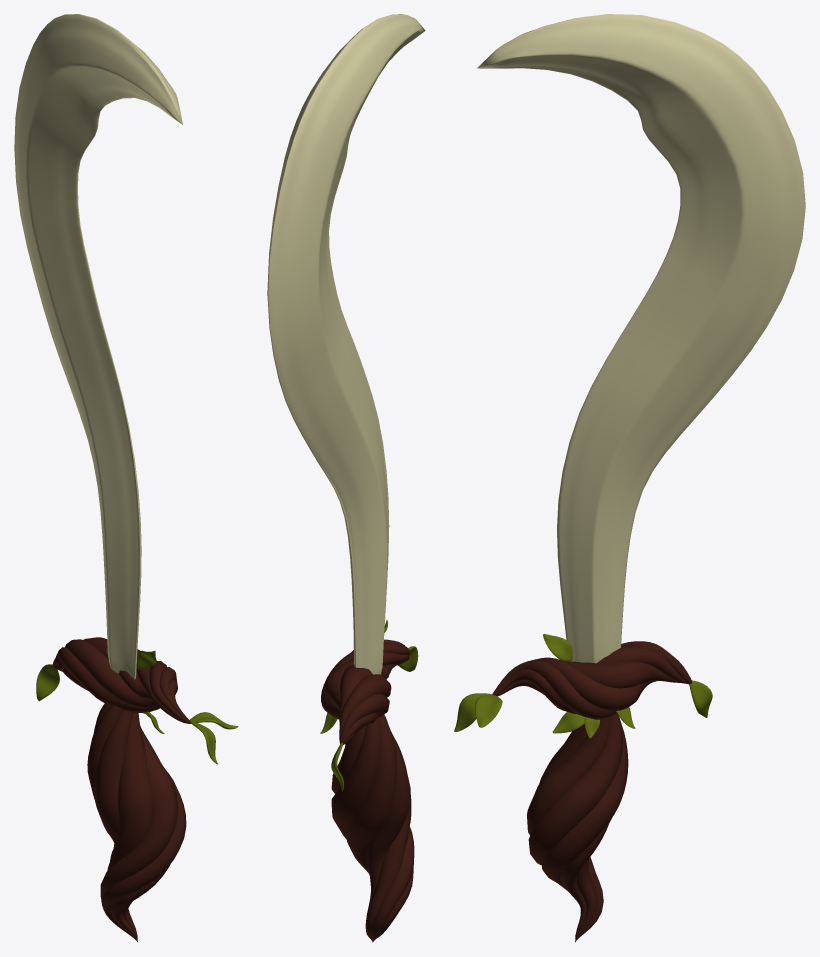
Rendered from sheepsword.fbx.
The picture shows the model from 3 angles, left to right: view 1: azimuth 30°, elevation 25°; view 2: azimuth 150°, elevation 25°; view 3: azimuth 270°, elevation 25°; orthographic projection. The views are drawn at different scales.
Parts seen in each view (by area): view 1: Cube, handletwist.001, handletwist.003, Roundcube.003; view 2: Cube, handletwist.001, handletwist.003; view 3: Cube, handletwist.001, handletwist.003.
Part boxes in pixels (bbox=[...]): Cube: bbox=[14, 14, 182, 679]; handletwist.001: bbox=[87, 703, 186, 941]; handletwist.003: bbox=[53, 637, 191, 723]; Roundcube.003: bbox=[36, 664, 59, 701]; Cube: bbox=[267, 14, 425, 674]; handletwist.001: bbox=[331, 714, 414, 942]; handletwist.003: bbox=[321, 639, 409, 744]; Cube: bbox=[477, 14, 805, 663]; handletwist.001: bbox=[527, 713, 628, 942]; handletwist.003: bbox=[492, 641, 692, 719].
Size of the model in its own units: 408 by 3795 by 1308.
